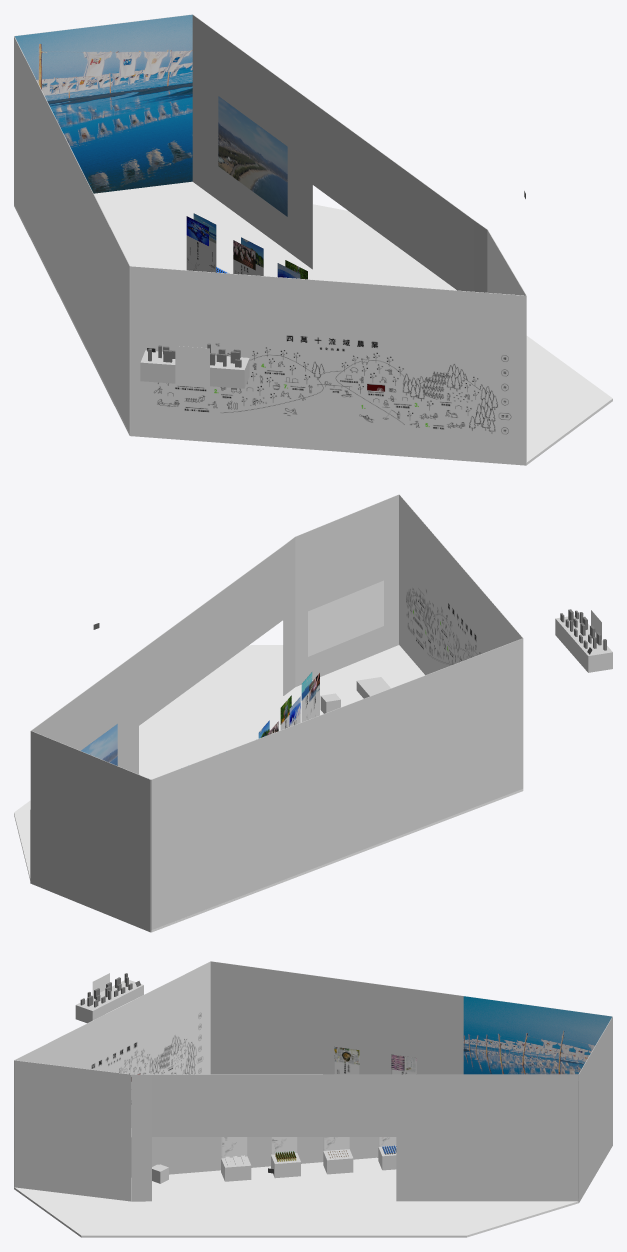
The model's file is taiwanのコピー.glb.
3 renders of one model, top to bottom at view 1: azimuth 30°, elevation 25°; view 2: azimuth 150°, elevation 25°; view 3: azimuth 270°, elevation 25°, orthographic. The views are drawn at different scales.
Parts seen in each view (by area): view 1: Cube.010, 平面, ポスター10, 立方体.019, タペストリー6.007, 立方体.012, 立方体.010, タペストリー6.003; view 2: Cube.010, 大タペストリーsunabi.001, 立方体.010, ポスター10; view 3: Cube.010, 平面, 平面.025, 立方体.007, タペストリー2, 立方体.003, 立方体.012, 立方体.008, タペストリー6.001, タペストリー3, タペストリー6.006, 立方体.022.
Boxes of the visible parts, left/top/right/bottom form: Cube.010: left=14, top=14, right=612, bottom=465; 平面: left=15, top=14, right=192, bottom=193; ポスター10: left=218, top=96, right=287, bottom=216; 立方体.019: left=175, top=346, right=209, bottom=386; タペストリー6.007: left=186, top=216, right=208, bottom=271; 立方体.012: left=210, top=355, right=249, bottom=388; 立方体.010: left=140, top=350, right=175, bottom=383; タペストリー6.003: left=233, top=240, right=255, bottom=275; Cube.010: left=14, top=494, right=523, bottom=932; 大タペストリーsunabi.001: left=308, top=580, right=383, bottom=656; 立方体.010: left=577, top=640, right=612, bottom=672; ポスター10: left=81, top=724, right=117, bottom=765; Cube.010: left=14, top=961, right=612, bottom=1237; 平面: left=463, top=996, right=611, bottom=1074; 平面.025: left=131, top=1137, right=378, bottom=1177; 立方体.007: left=323, top=1149, right=353, bottom=1174; タペストリー2: left=334, top=1046, right=359, bottom=1074; 立方体.003: left=221, top=1156, right=251, bottom=1181; 立方体.012: left=75, top=996, right=109, bottom=1023; 立方体.008: left=271, top=1153, right=300, bottom=1178; タペストリー6.001: left=221, top=1137, right=247, bottom=1158; タペストリー3: left=391, top=1054, right=416, bottom=1074; タペストリー6.006: left=271, top=1137, right=297, bottom=1154; 立方体.022: left=378, top=1145, right=396, bottom=1170.
Bounding box in the file's own units: 81.22 × 27.41 × 115.
Materials: 68 (13 with a texture image).
